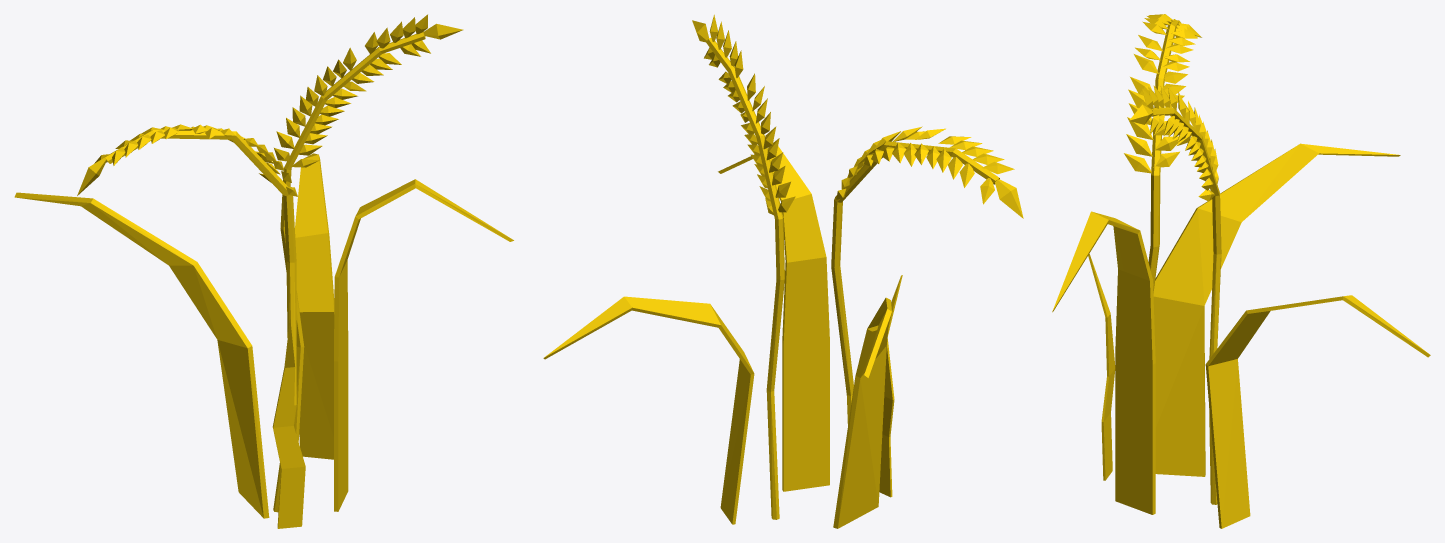
Rendered from wheat2.glb.
3 views of the same model, side by side, from view 1: azimuth 30°, elevation 25°; view 2: azimuth 150°, elevation 25°; view 3: azimuth 270°, elevation 25° (orthographic).
Parts seen in each view (by area): view 1: wheat2; view 2: wheat2; view 3: wheat2.
Part boxes in pixels (x1,y1,x2,y2): wheat2: (14, 14, 513, 528); wheat2: (543, 14, 1023, 528); wheat2: (1052, 14, 1430, 528).
Bounding box in the file's own units: 0.7462 × 0.8808 × 0.6531.
1 material, 1 textured.
